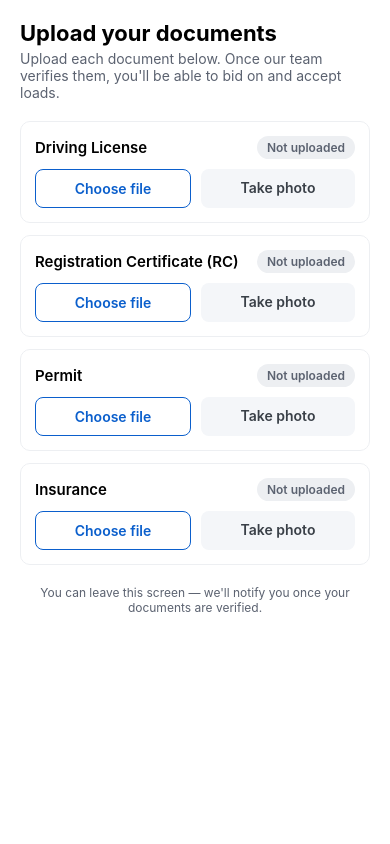
it: DocumentUploadScreen › uploads a picked file and shows Uploaded once the API resolves
Click the button with test id "upload-button-driving_license" at (113,188), box top-left (35, 169), bottom-right (191, 208)
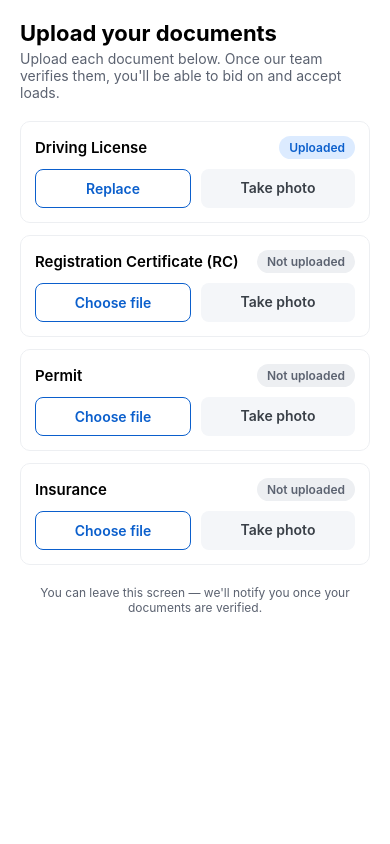
Expected: the element with test id "document-status-badge-uploaded" is shown, top-left (279, 136), bottom-right (355, 159)
